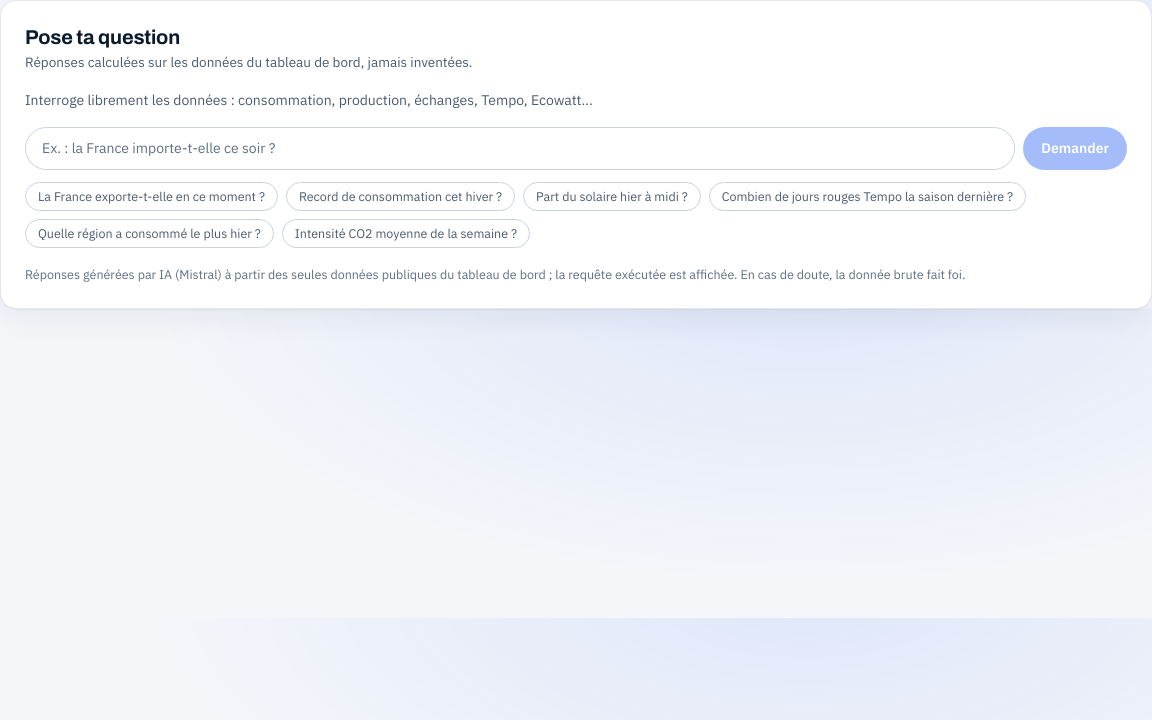
it: ChatSection › les questions suggérées se posent en un clic
Click the button "Record de consommation cet hiver ?" at (400, 197), box x1=286 y1=182 x2=515 y2=211
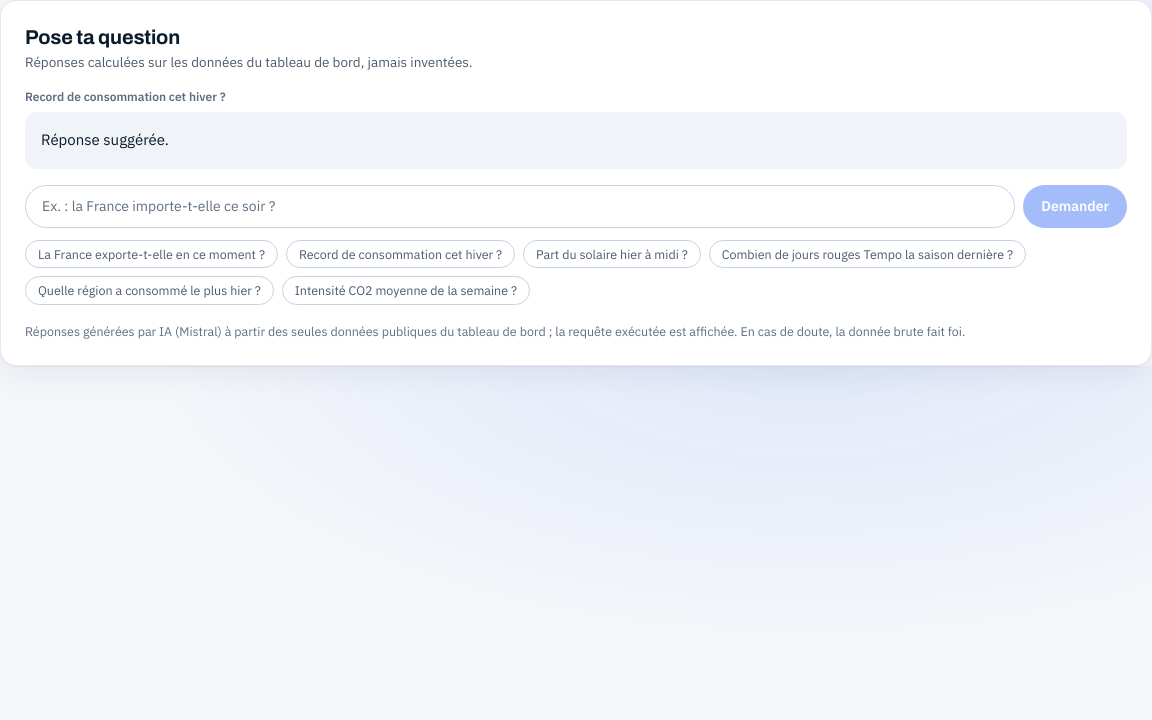
expect the text "Réponse suggérée." is shown: met, box x1=41 y1=130 x2=169 y2=149
expect the text "Record de consommation cet hiver ?" is shown: met, box x1=25 y1=89 x2=226 y2=104
